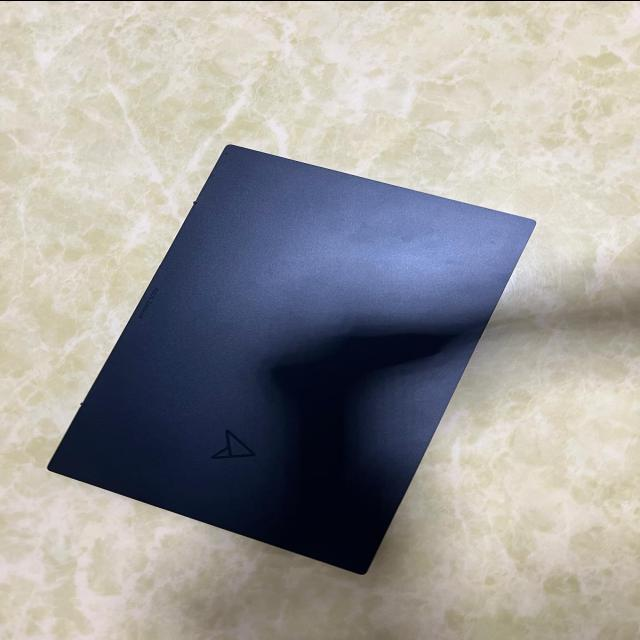laptop: (46, 142, 536, 575)
